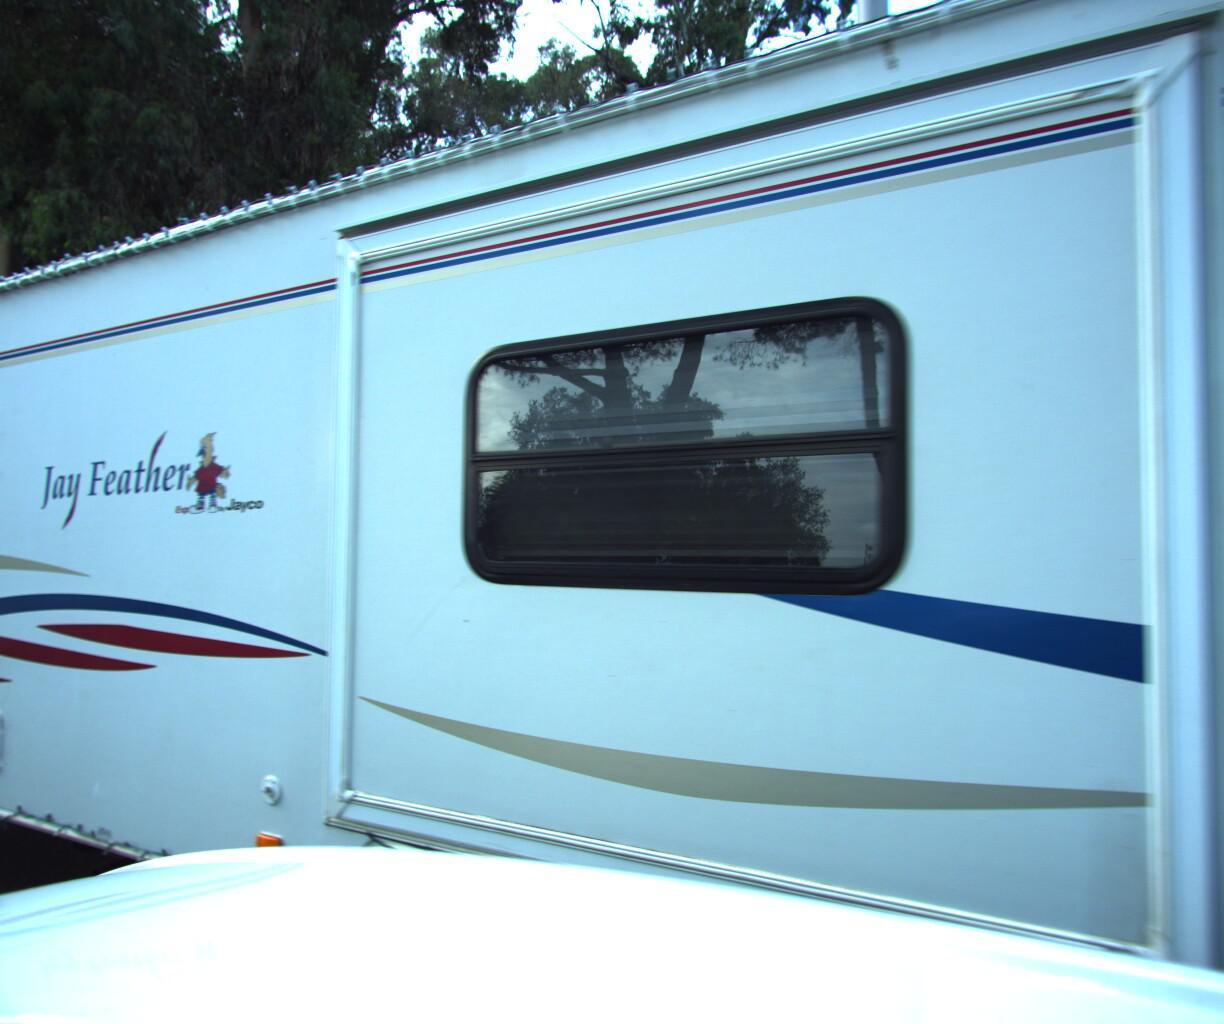car: (0, 491, 73, 824)
